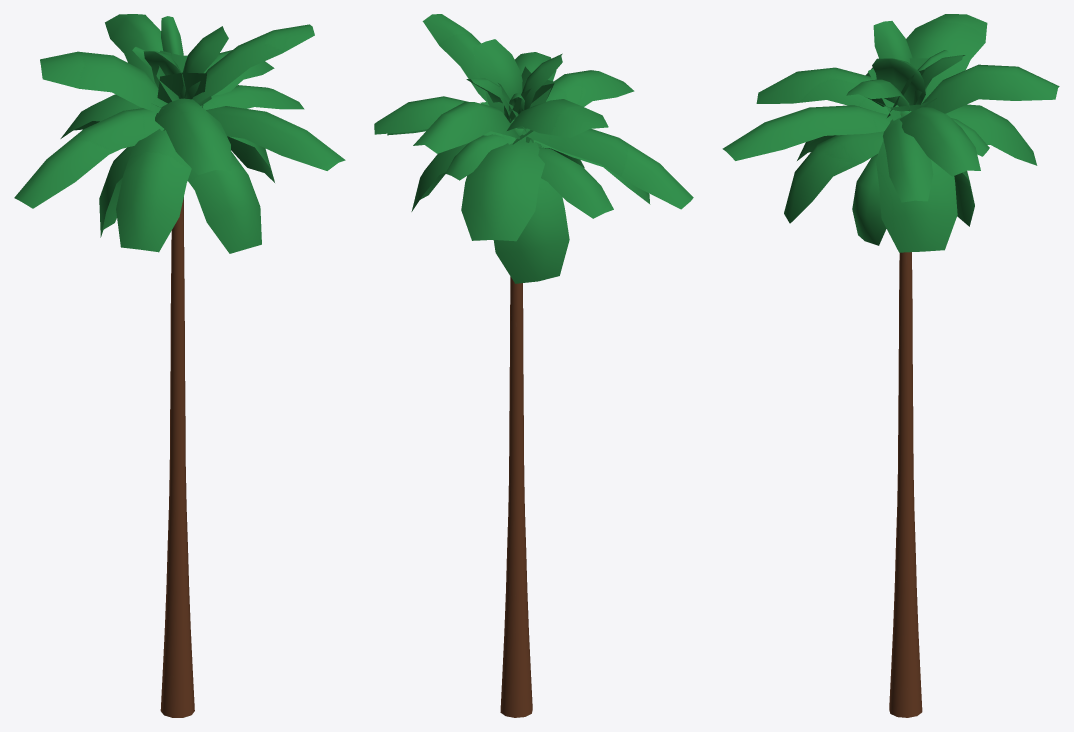
Rendered from palm.glb.
The picture shows the model from 3 angles, left to right: view 1: azimuth 30°, elevation 25°; view 2: azimuth 150°, elevation 25°; view 3: azimuth 270°, elevation 25°; orthographic projection. The views are drawn at different scales.
Visible parts, largest first — view 1: node_id55; view 2: node_id55; view 3: node_id55.
Boxes of the visible parts, x1,y1,x2,y2 form: node_id55: [14, 14, 345, 717]; node_id55: [374, 14, 693, 717]; node_id55: [722, 14, 1059, 717].
Size of the model in its own units: 0.1996 by 0.4382 by 0.1994.
1 material, 1 textured.
